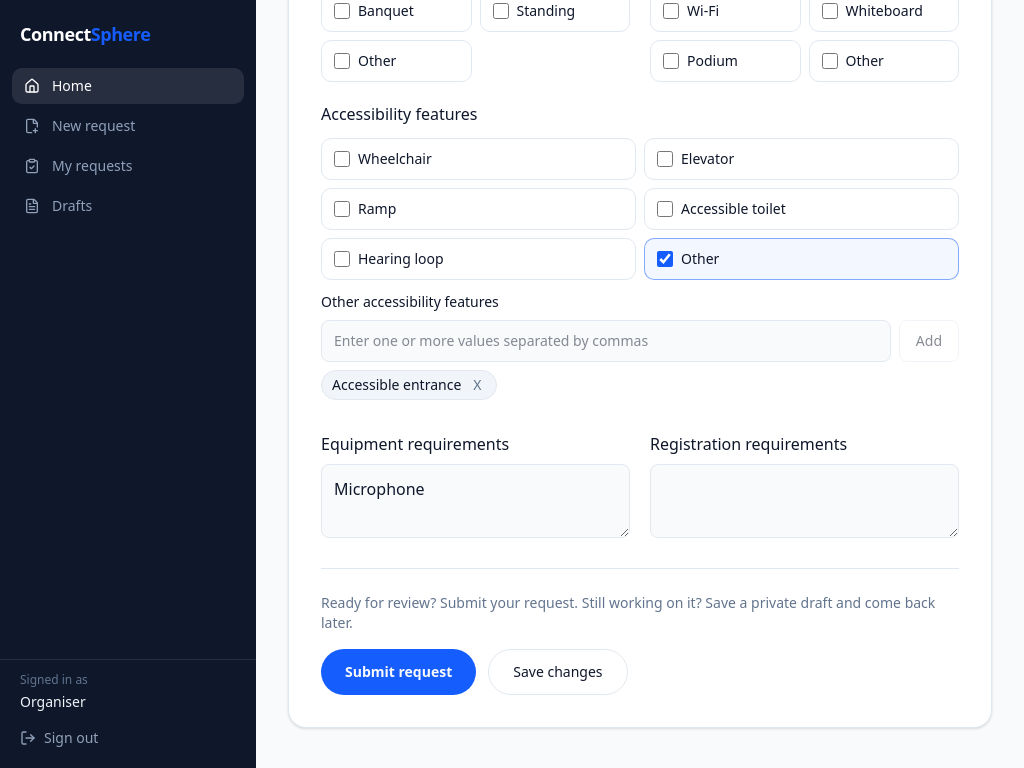
a legacy draft can be submitted and leaves the editable workspace
(page scrolled)
Click the button "Submit request": (399, 672) [321,648,476,694]
(page scrolled)
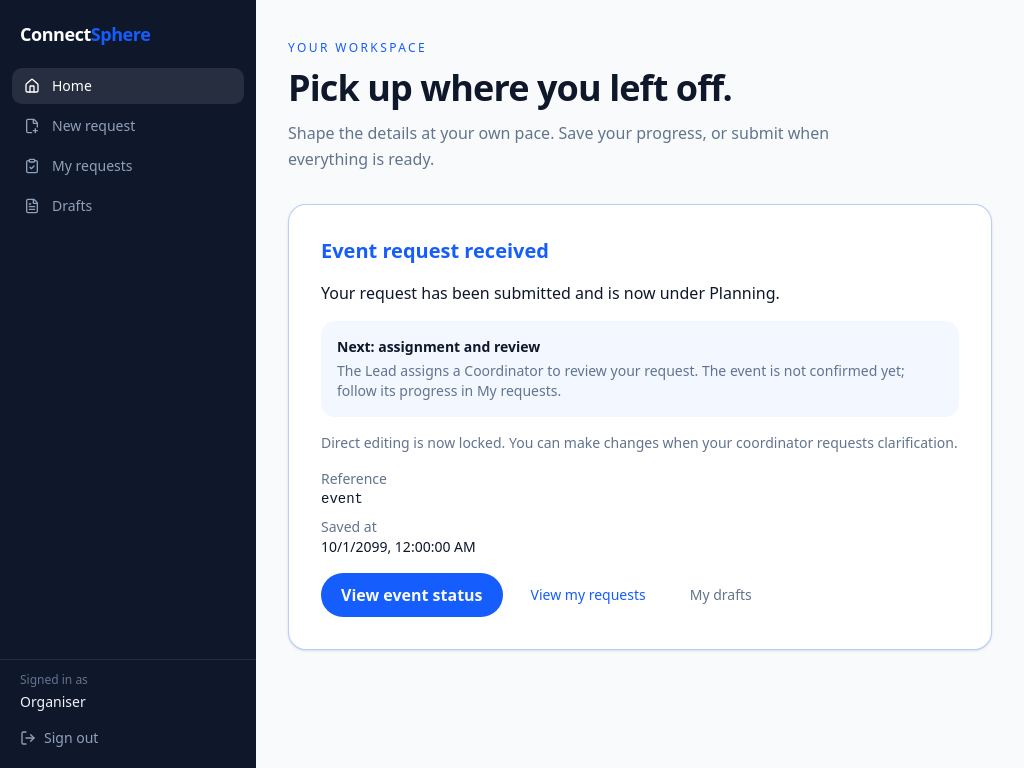
Result: the text "Your request has been submitted and is now under Planning." is shown at [321,282,780,304]
Result: the button "Submit request" is gone
